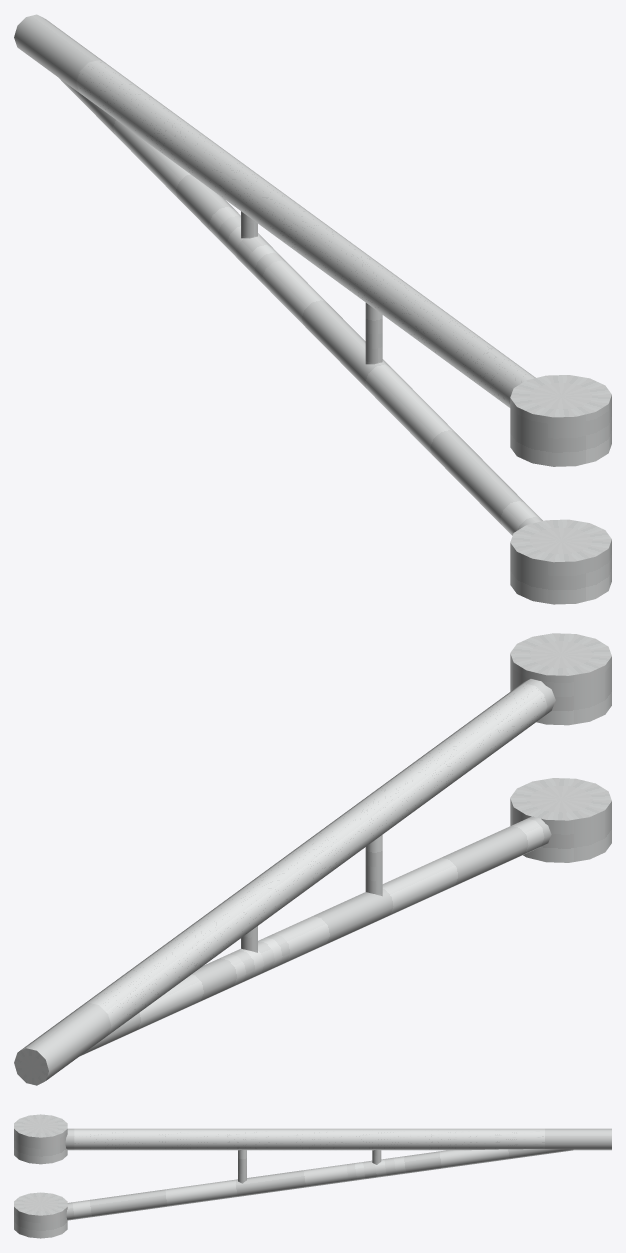
Rendered from trusssignalarm_level8_inv.obj.
3 renders of one model, top to bottom at view 1: azimuth 30°, elevation 25°; view 2: azimuth 150°, elevation 25°; view 3: azimuth 270°, elevation 25°, orthographic. The views are drawn at different scales.
Visible parts, largest first — view 1: trusssignalarm_level8_inv; view 2: trusssignalarm_level8_inv; view 3: trusssignalarm_level8_inv.
Boxes of the visible parts, x1,y1,x2,y2 form: trusssignalarm_level8_inv: [14, 14, 611, 604]; trusssignalarm_level8_inv: [14, 633, 611, 1085]; trusssignalarm_level8_inv: [14, 1114, 611, 1238].
Bounding box in the file's own units: 0.092 × 0.1861 × 1.
